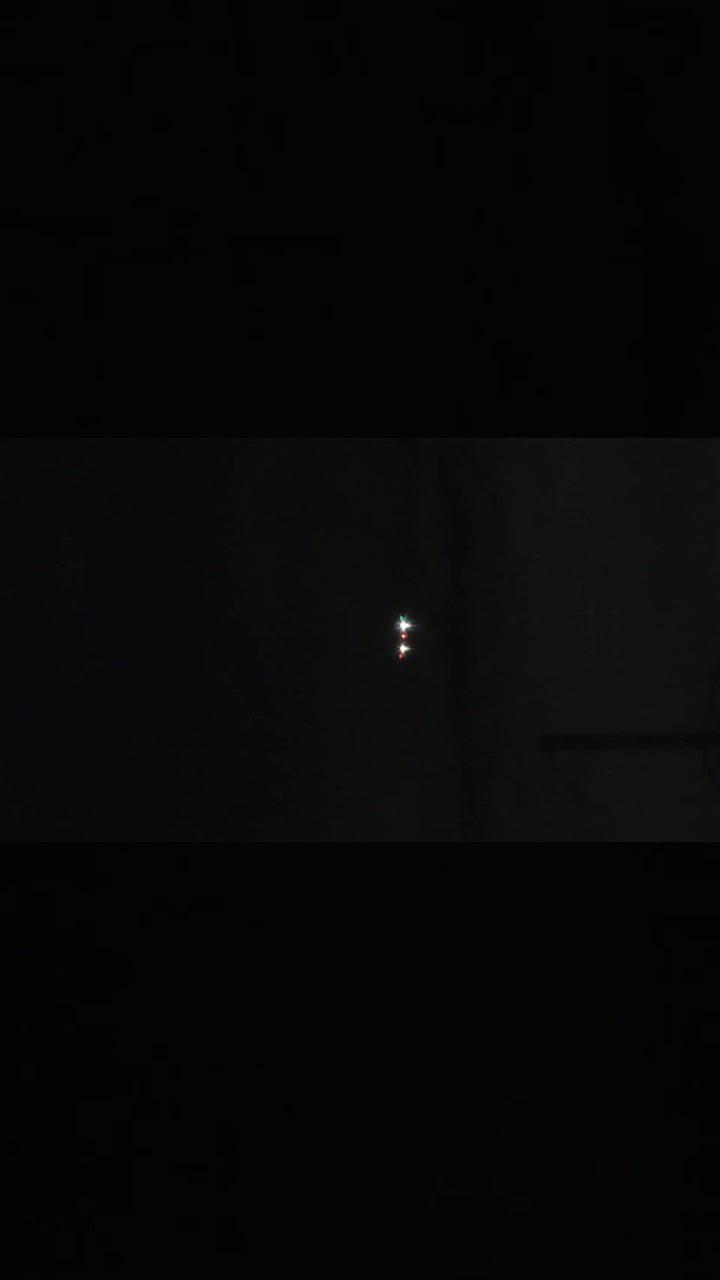Plane: (370, 583, 437, 687)
